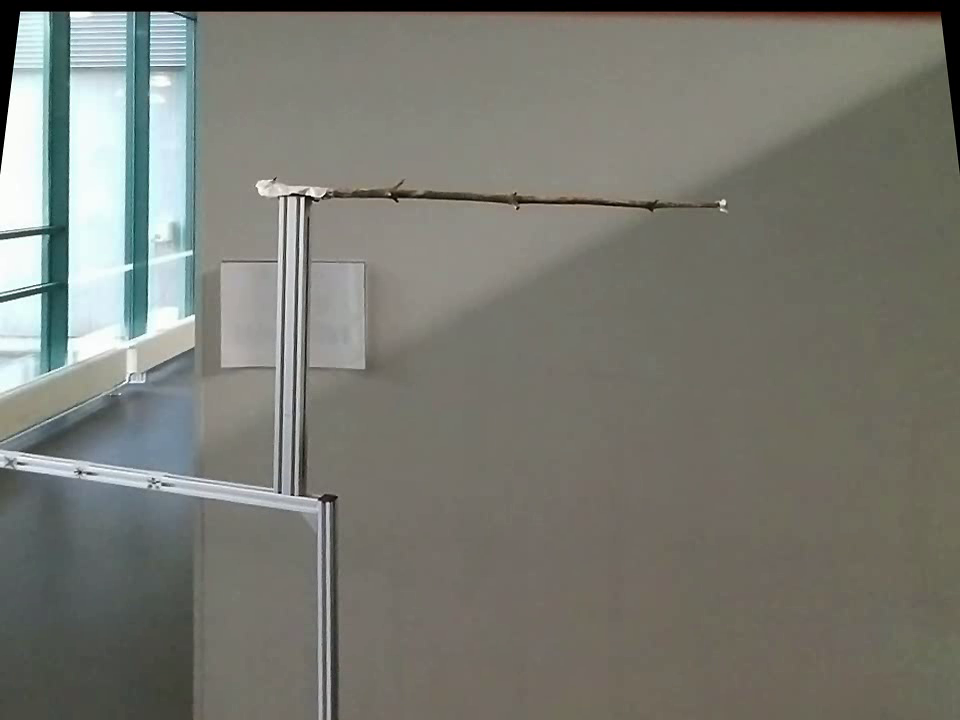aluminum_frame: (2, 444, 315, 517), (270, 197, 315, 495), (312, 484, 349, 716)
branch: (333, 173, 704, 217)
